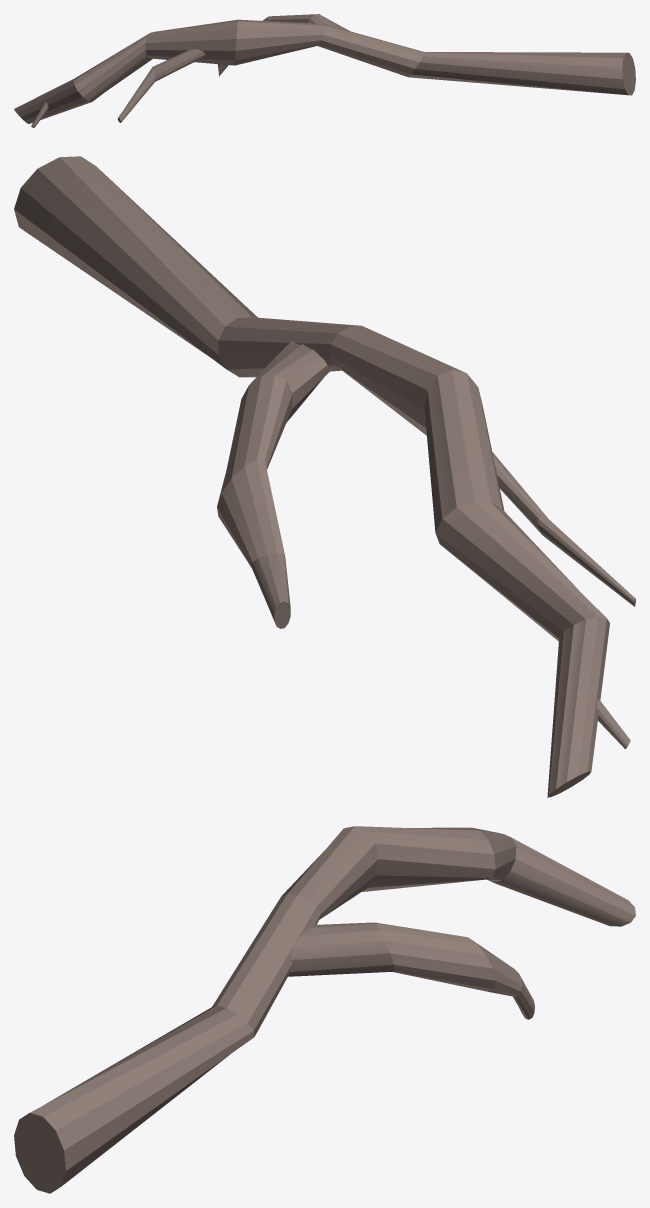
Rendered from mttops_root_2.glb.
The picture shows the model from 3 angles, top to bottom: view 1: azimuth 30°, elevation 25°; view 2: azimuth 150°, elevation 25°; view 3: azimuth 270°, elevation 25°; orthographic projection. The views are drawn at different scales.
Visible parts, largest first — view 1: Line004.135; view 2: Line004.135; view 3: Line004.135.
Part boxes in pixels (x1,y1,x2,y2): Line004.135: (14,14,635,127); Line004.135: (14,156,635,797); Line004.135: (14,826,635,1193).
Bounding box in the file's own units: 0.5965 × 0.1561 × 0.4264.
